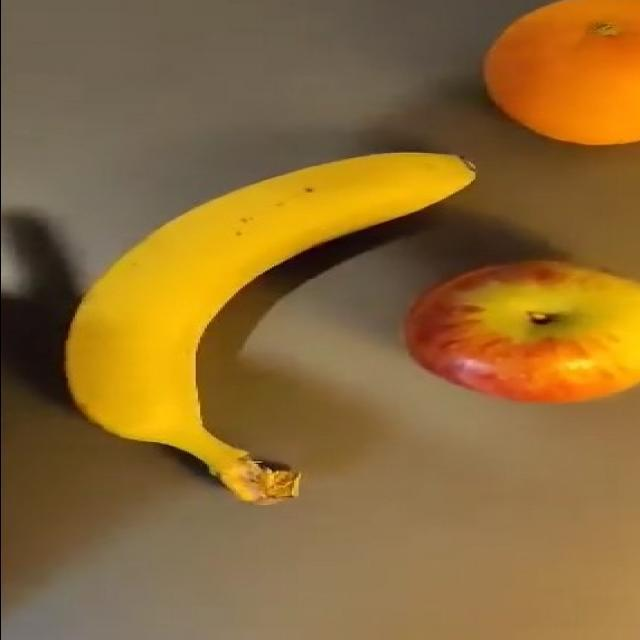Apple: (403, 258, 639, 404)
Banana: (63, 149, 476, 505)
Orange: (482, 0, 639, 146)
